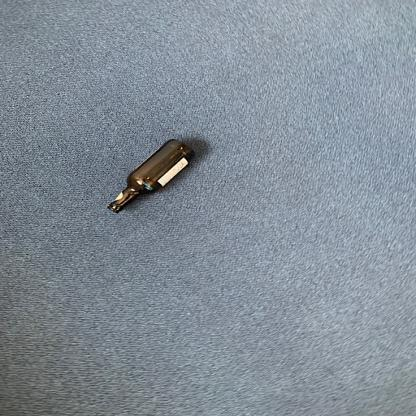trash: (104, 138, 206, 218)
